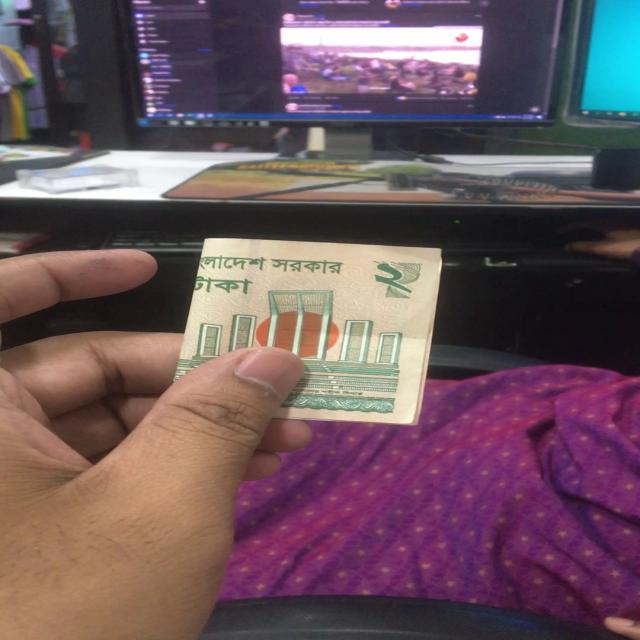Taka: (185, 234, 446, 428)
